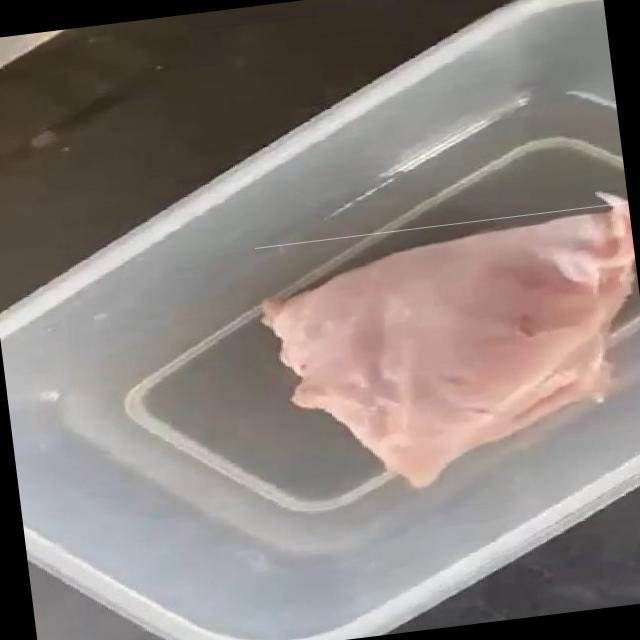chicken: (254, 201, 640, 512)
